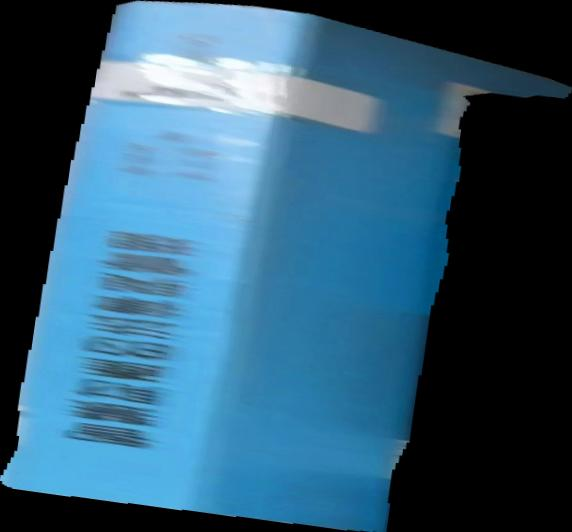reverse: (1, 1, 572, 532)
